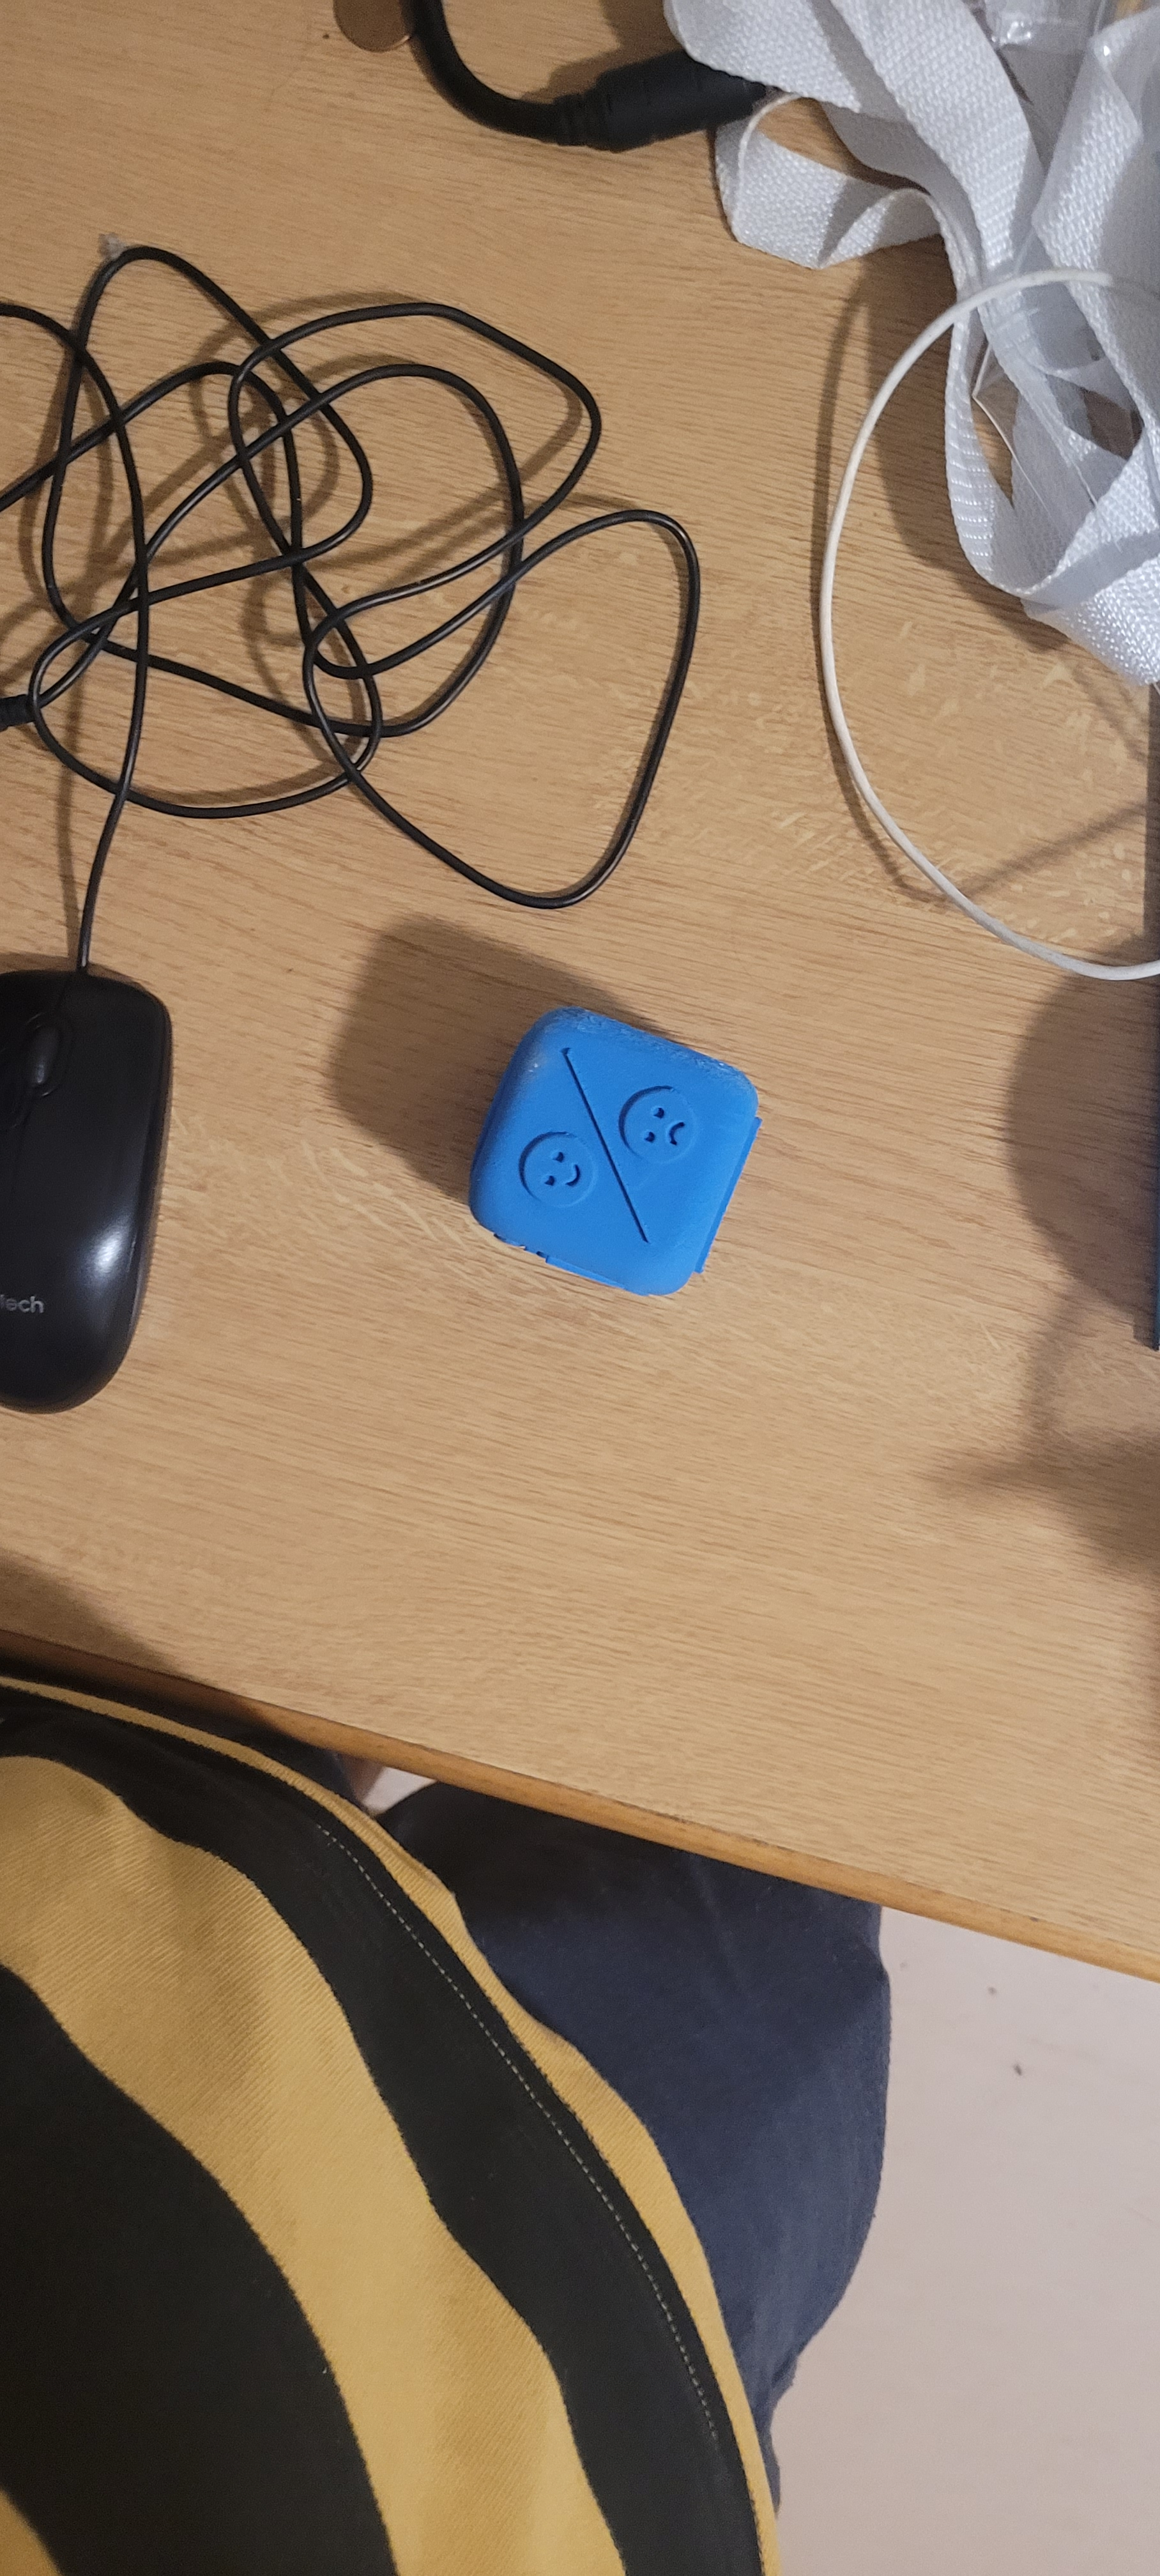Like/Dislike: (496, 992, 731, 1288)
